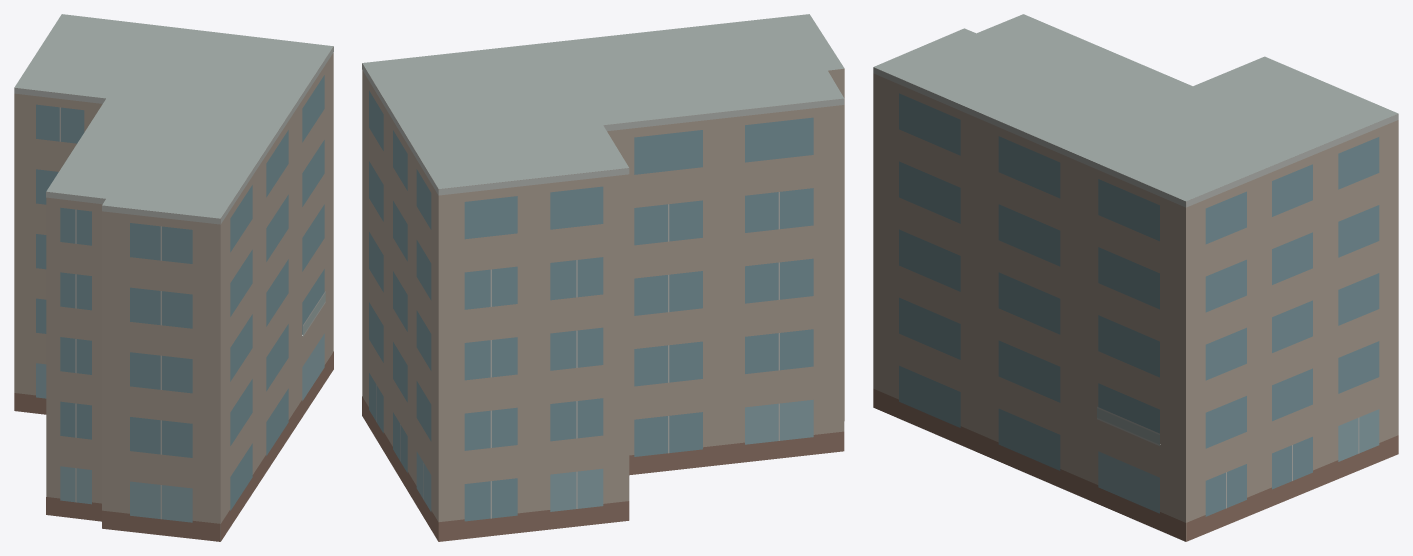
File: survey-upis-33015429.glb
The picture shows the model from 3 angles, left to right: view 1: azimuth 30°, elevation 25°; view 2: azimuth 150°, elevation 25°; view 3: azimuth 270°, elevation 25°; orthographic projection. The views are drawn at different scales.
Parts seen in each view (by area): view 1: survey-upis-33015429.tmp; view 2: survey-upis-33015429.tmp; view 3: survey-upis-33015429.tmp.
Part boxes in pixels (x1=…): survey-upis-33015429.tmp: x1=14, y1=14, x2=333, y2=541; survey-upis-33015429.tmp: x1=362, y1=14, x2=844, y2=541; survey-upis-33015429.tmp: x1=873, y1=14, x2=1398, y2=541.
Bounding box in the file's own units: 15.89 × 13.45 × 18.82.
